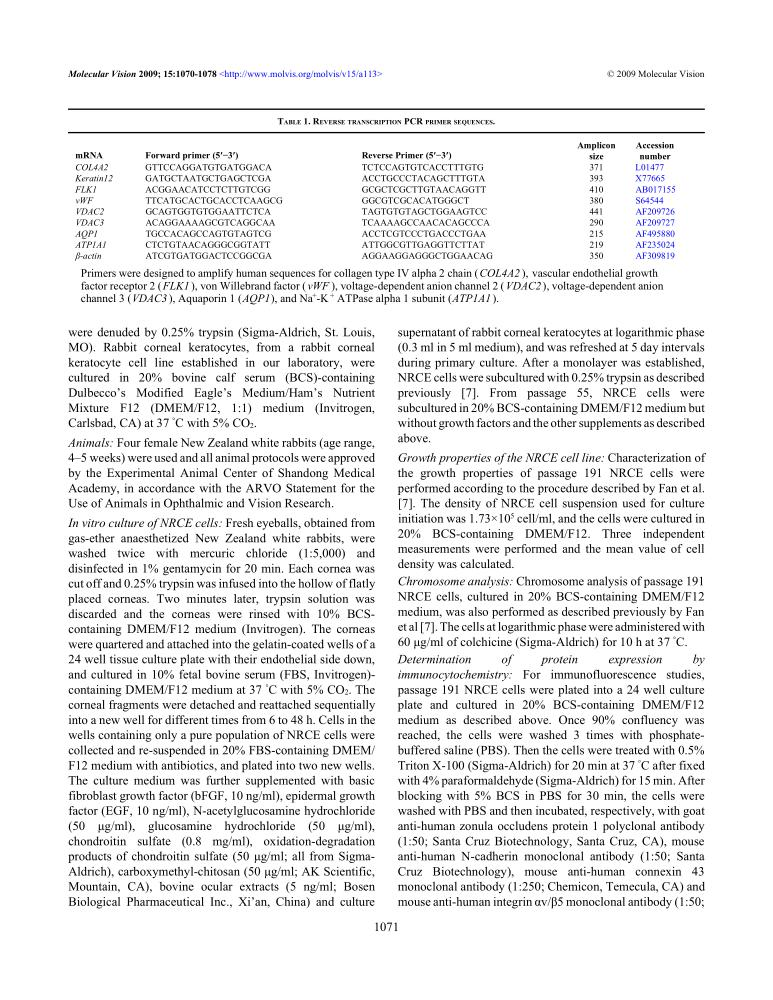table: (75, 139, 675, 260)
